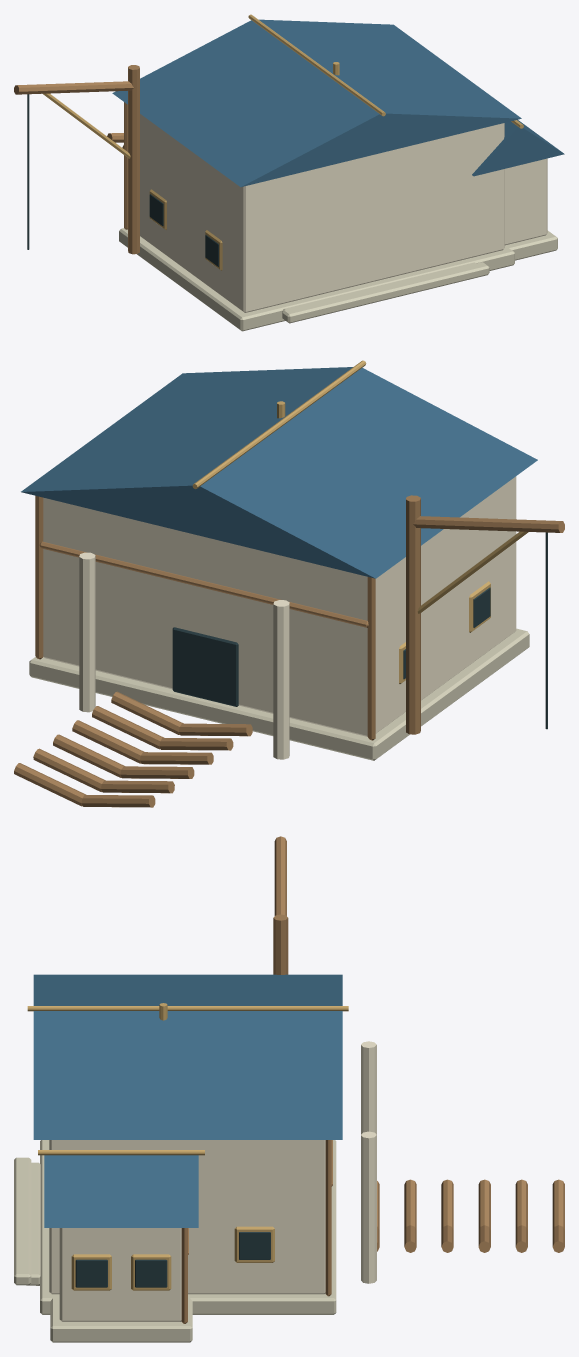
File: level_29.glb
3 renders of one model, top to bottom at view 1: azimuth 30°, elevation 25°; view 2: azimuth 150°, elevation 25°; view 3: azimuth 270°, elevation 25°, orthographic. The views are drawn at different scales.
Visible parts, largest first — view 1: shipyard — level 29; view 2: shipyard — level 29; view 3: shipyard — level 29.
Boxes of the visible parts, x1=… form: shipyard — level 29: x1=14, y1=14, x2=564, y2=331; shipyard — level 29: x1=14, y1=360, x2=564, y2=807; shipyard — level 29: x1=14, y1=836, x2=564, y2=1342.
Size of the model in its own units: 10.13 by 4.41 by 8.92.
